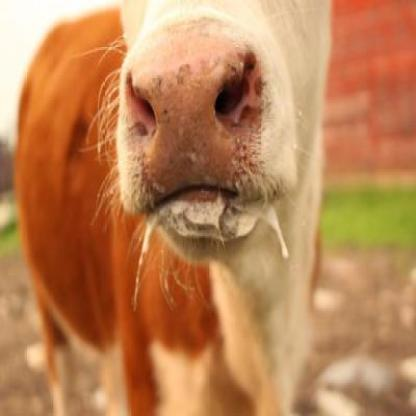lower: (151, 200, 268, 253)
mouth: (116, 38, 294, 263)
upper: (122, 71, 261, 184)
